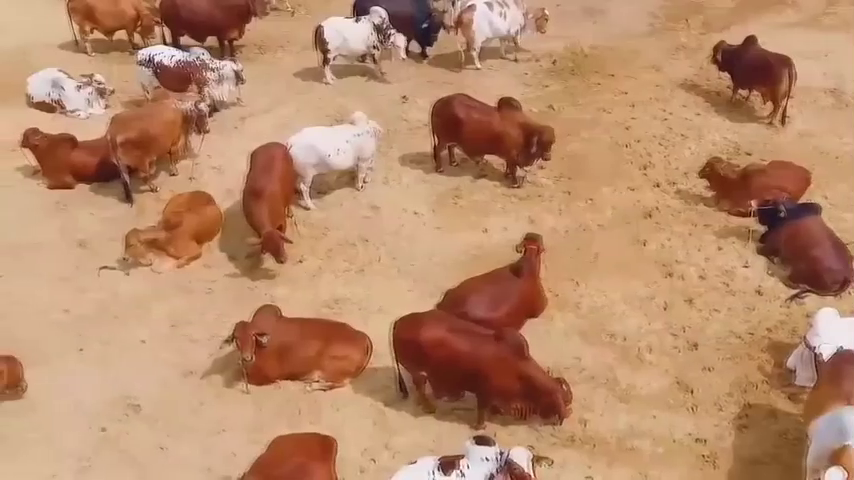bo: (379, 302, 586, 434), (425, 228, 573, 349), (221, 294, 380, 396), (424, 83, 563, 191), (742, 192, 852, 306), (690, 17, 811, 116), (277, 102, 385, 208), (103, 85, 211, 189), (128, 37, 250, 116), (376, 429, 559, 480), (126, 186, 230, 274), (17, 123, 125, 204), (239, 131, 301, 268), (695, 144, 810, 214), (313, 5, 407, 90), (795, 347, 854, 480), (779, 301, 854, 397), (19, 56, 121, 125), (157, 1, 274, 61), (56, 1, 164, 65), (352, 1, 454, 66), (448, 5, 551, 68), (246, 423, 344, 480)
